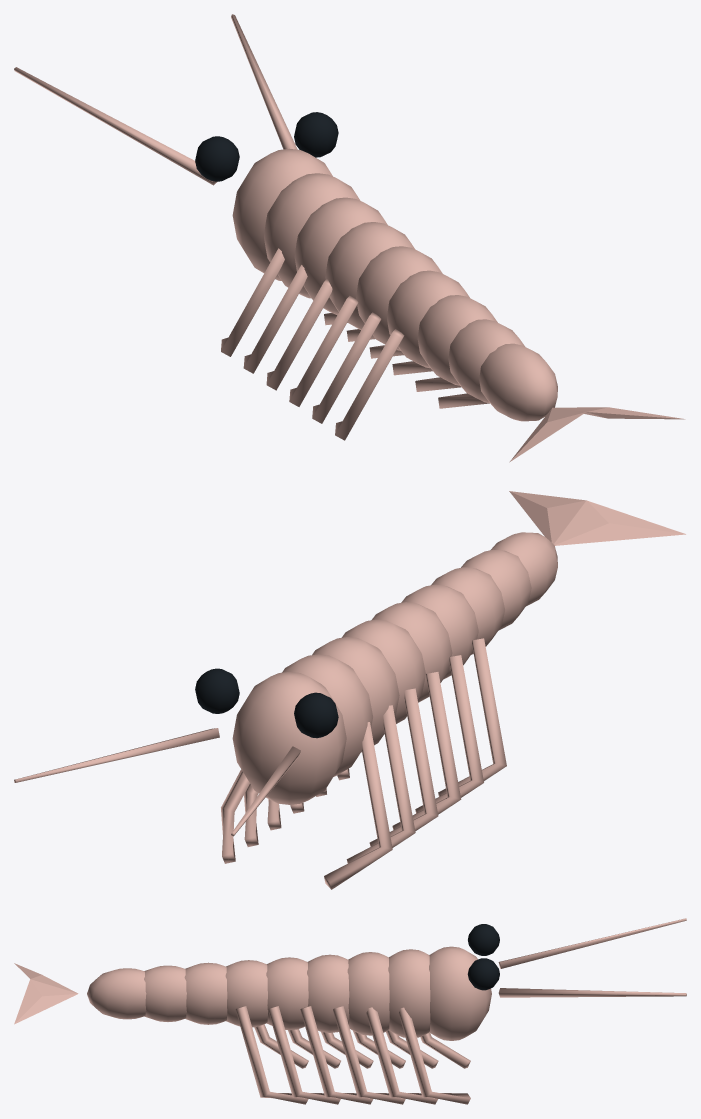
File: antarctic-krill.glb
The picture shows the model from 3 angles, top to bottom: view 1: azimuth 30°, elevation 25°; view 2: azimuth 150°, elevation 25°; view 3: azimuth 270°, elevation 25°; orthographic projection. The views are drawn at different scales.
Parts seen in each view (by area): view 1: antarctic-krill; view 2: antarctic-krill; view 3: antarctic-krill.
Boxes of the visible parts, x1,y1,x2,y2 form: antarctic-krill: [14, 14, 685, 462]; antarctic-krill: [14, 491, 685, 889]; antarctic-krill: [14, 918, 686, 1104].
Size of the model in its own units: 0.0223 by 0.0196 by 0.0831.
